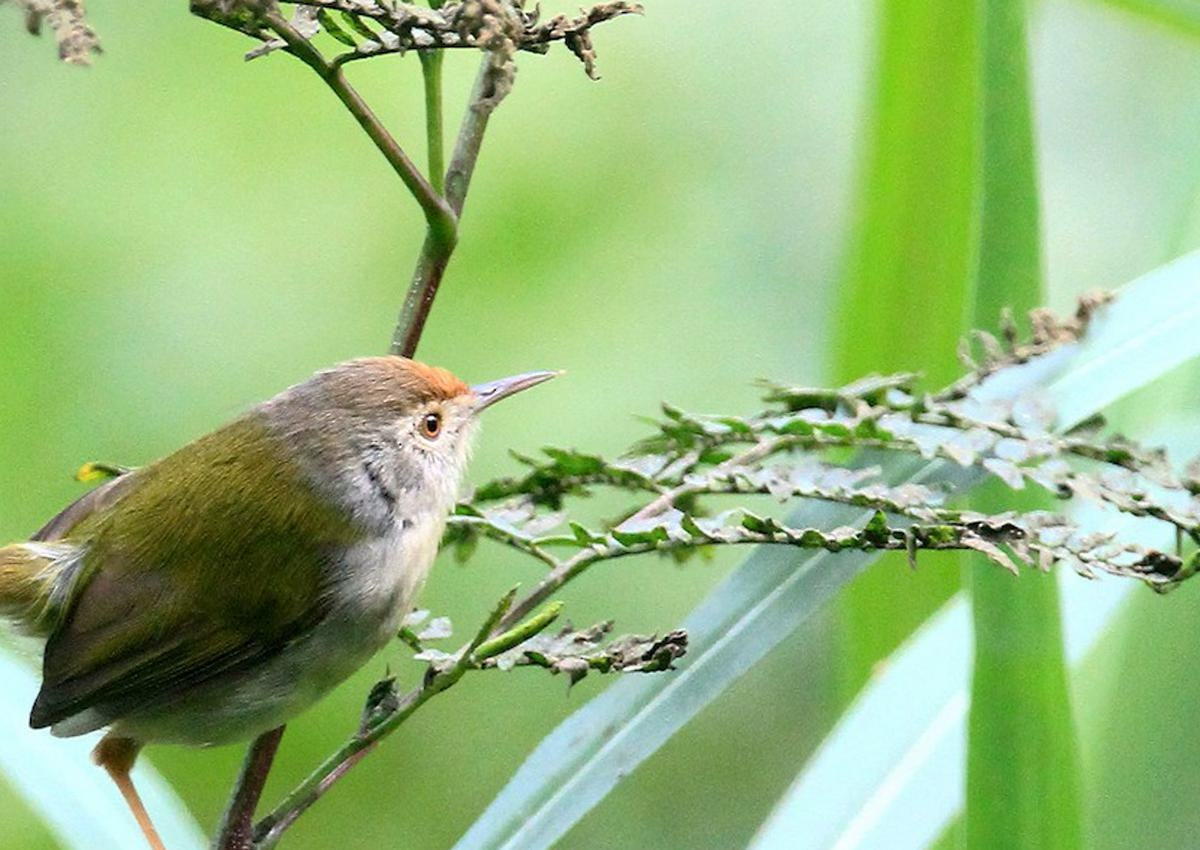tailorbird: (1, 335, 616, 795)
